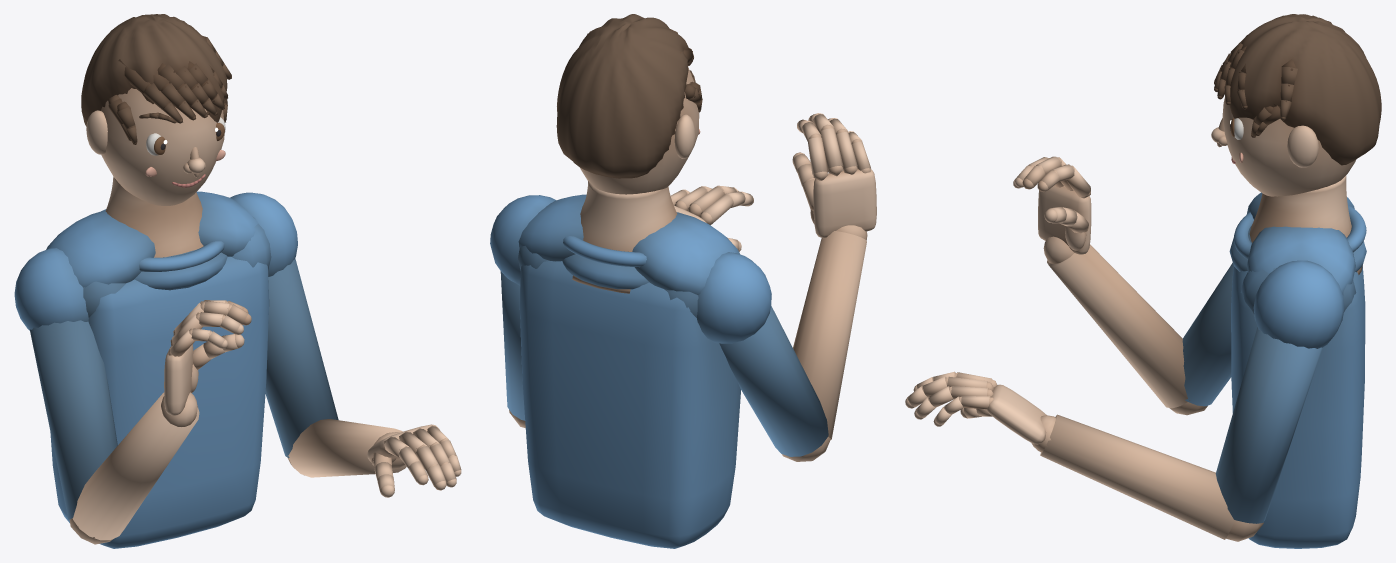
The picture shows the model from 3 angles, left to right: view 1: azimuth 30°, elevation 25°; view 2: azimuth 150°, elevation 25°; view 3: azimuth 270°, elevation 25°; orthographic projection.
Visible parts, largest first — view 1: LSC_Body; view 2: LSC_Body; view 3: LSC_Body.
Boxes of the visible parts, bbox=[...] form: LSC_Body: bbox=[14, 14, 461, 548]; LSC_Body: bbox=[490, 14, 876, 548]; LSC_Body: bbox=[905, 14, 1381, 548].
Size of the model in its own units: 0.4304 by 0.713 by 0.6104.
